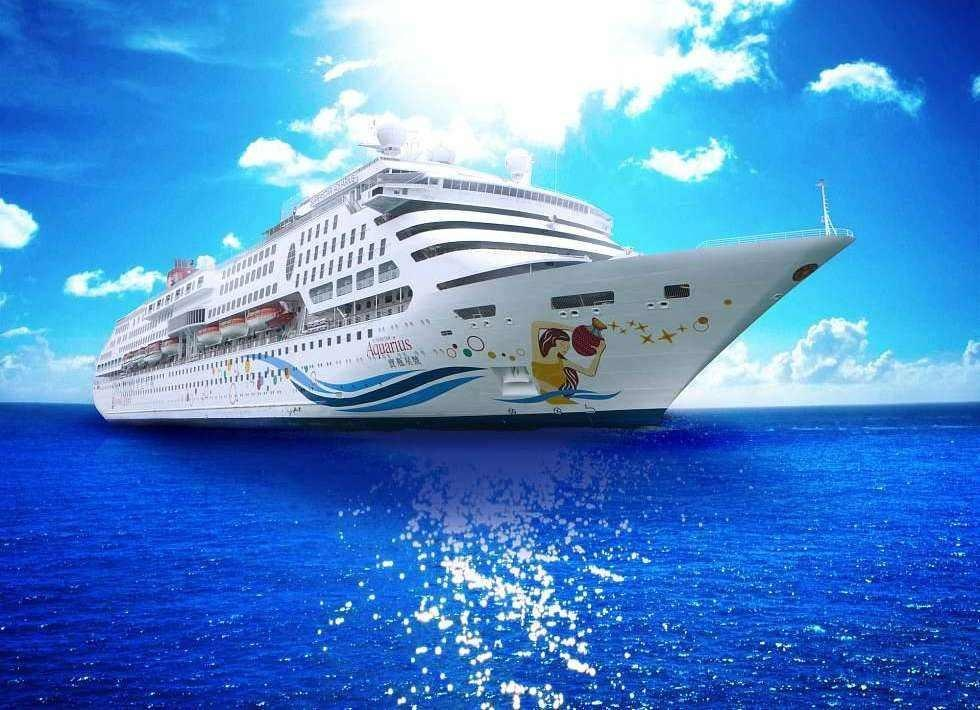youlun: (86, 121, 864, 427)
